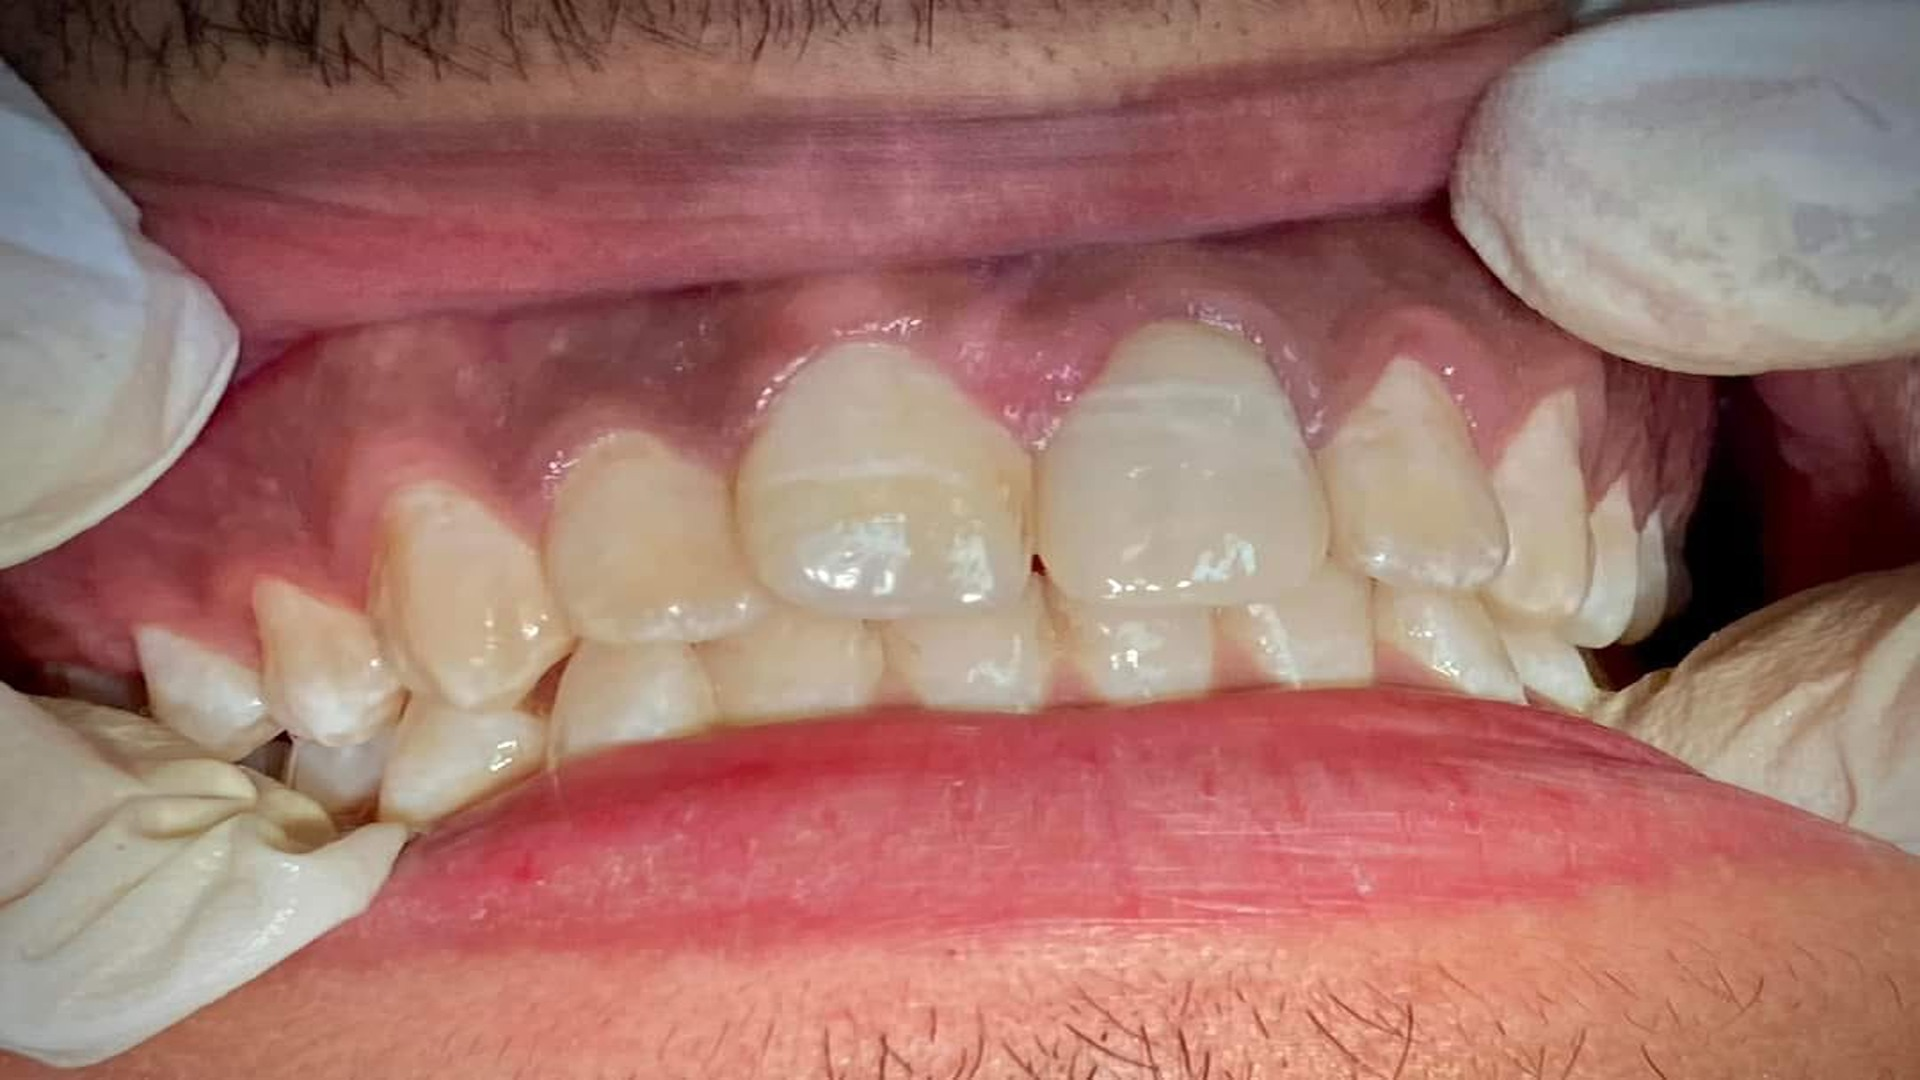tooth: (1035, 316, 1331, 607), (735, 343, 1036, 620), (543, 431, 770, 644), (367, 481, 574, 711), (1315, 355, 1510, 587), (253, 576, 407, 746), (877, 572, 1054, 713), (1487, 388, 1593, 618), (378, 695, 549, 832), (516, 640, 717, 752), (684, 607, 885, 719), (135, 624, 284, 761), (1215, 563, 1375, 688), (1047, 585, 1215, 704), (1371, 583, 1528, 705), (1502, 632, 1597, 712)
